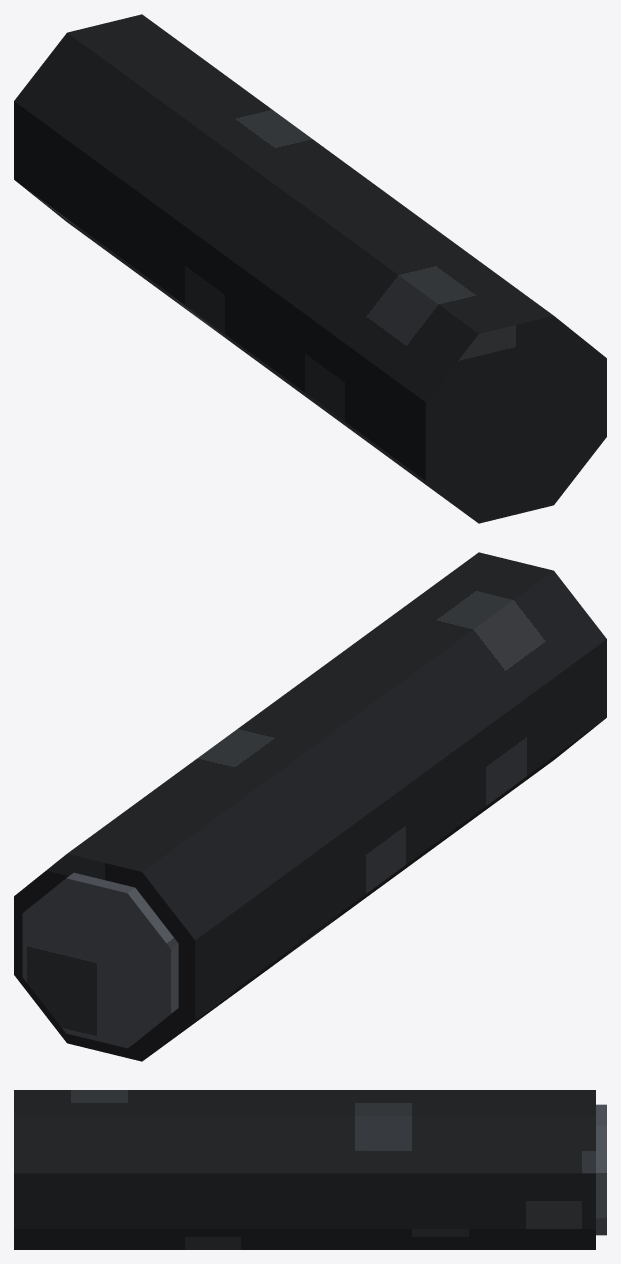
The model's file is att_suppressor.glb.
3 renders of one model, top to bottom at view 1: azimuth 30°, elevation 25°; view 2: azimuth 150°, elevation 25°; view 3: azimuth 270°, elevation 25°, orthographic. The views are drawn at different scales.
Visible parts, largest first — view 1: Body; view 2: Body; view 3: Body.
Boxes of the visible parts, bbox=[...] form: Body: bbox=[14, 14, 606, 523]; Body: bbox=[14, 552, 606, 1061]; Body: bbox=[14, 1090, 606, 1249].
Bounding box in the file's own units: 0.0407 × 0.0407 × 0.163.
Materials: 2 (2 with a texture image).
